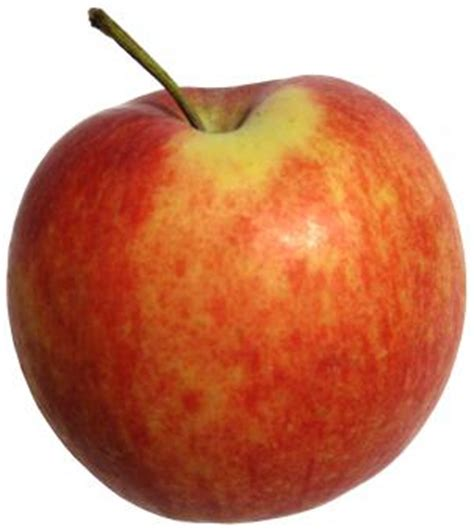apple: (2, 56, 471, 531)
